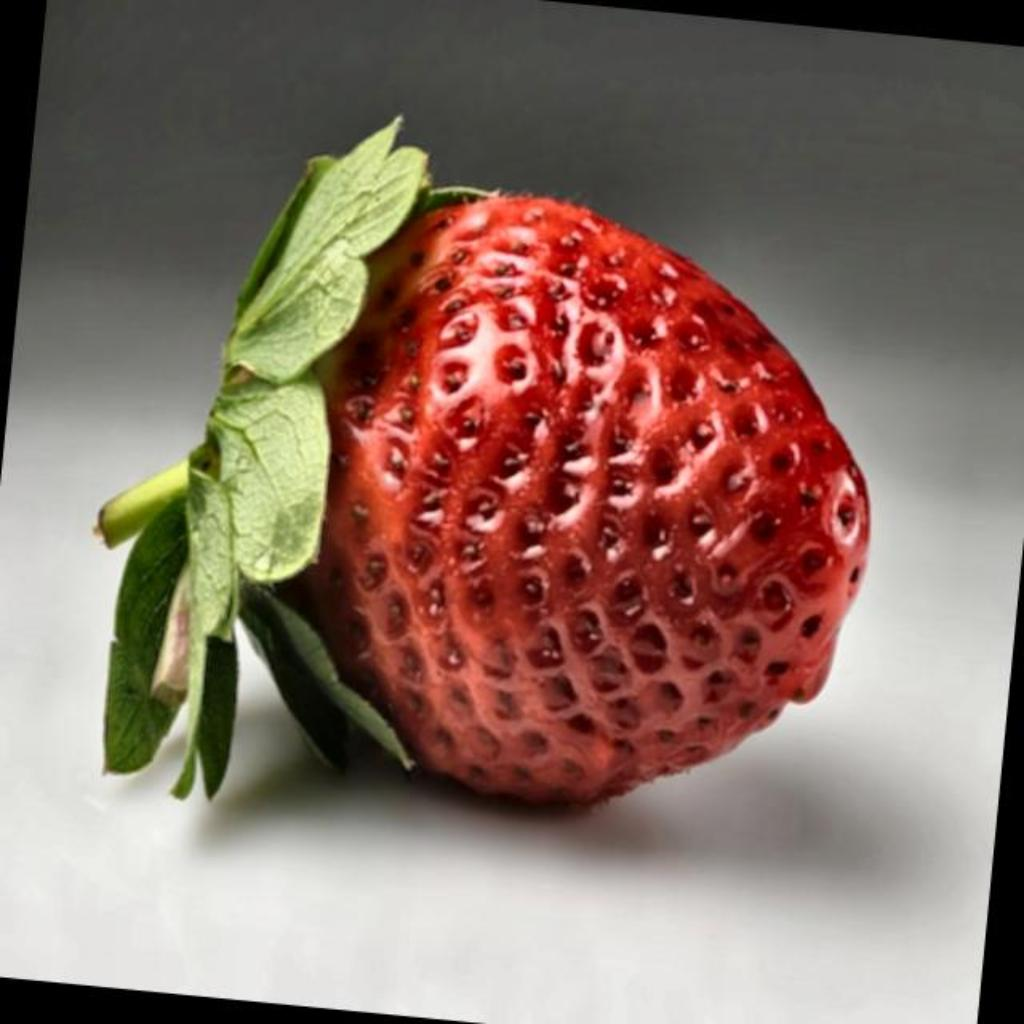strawberry: (98, 120, 870, 802)
